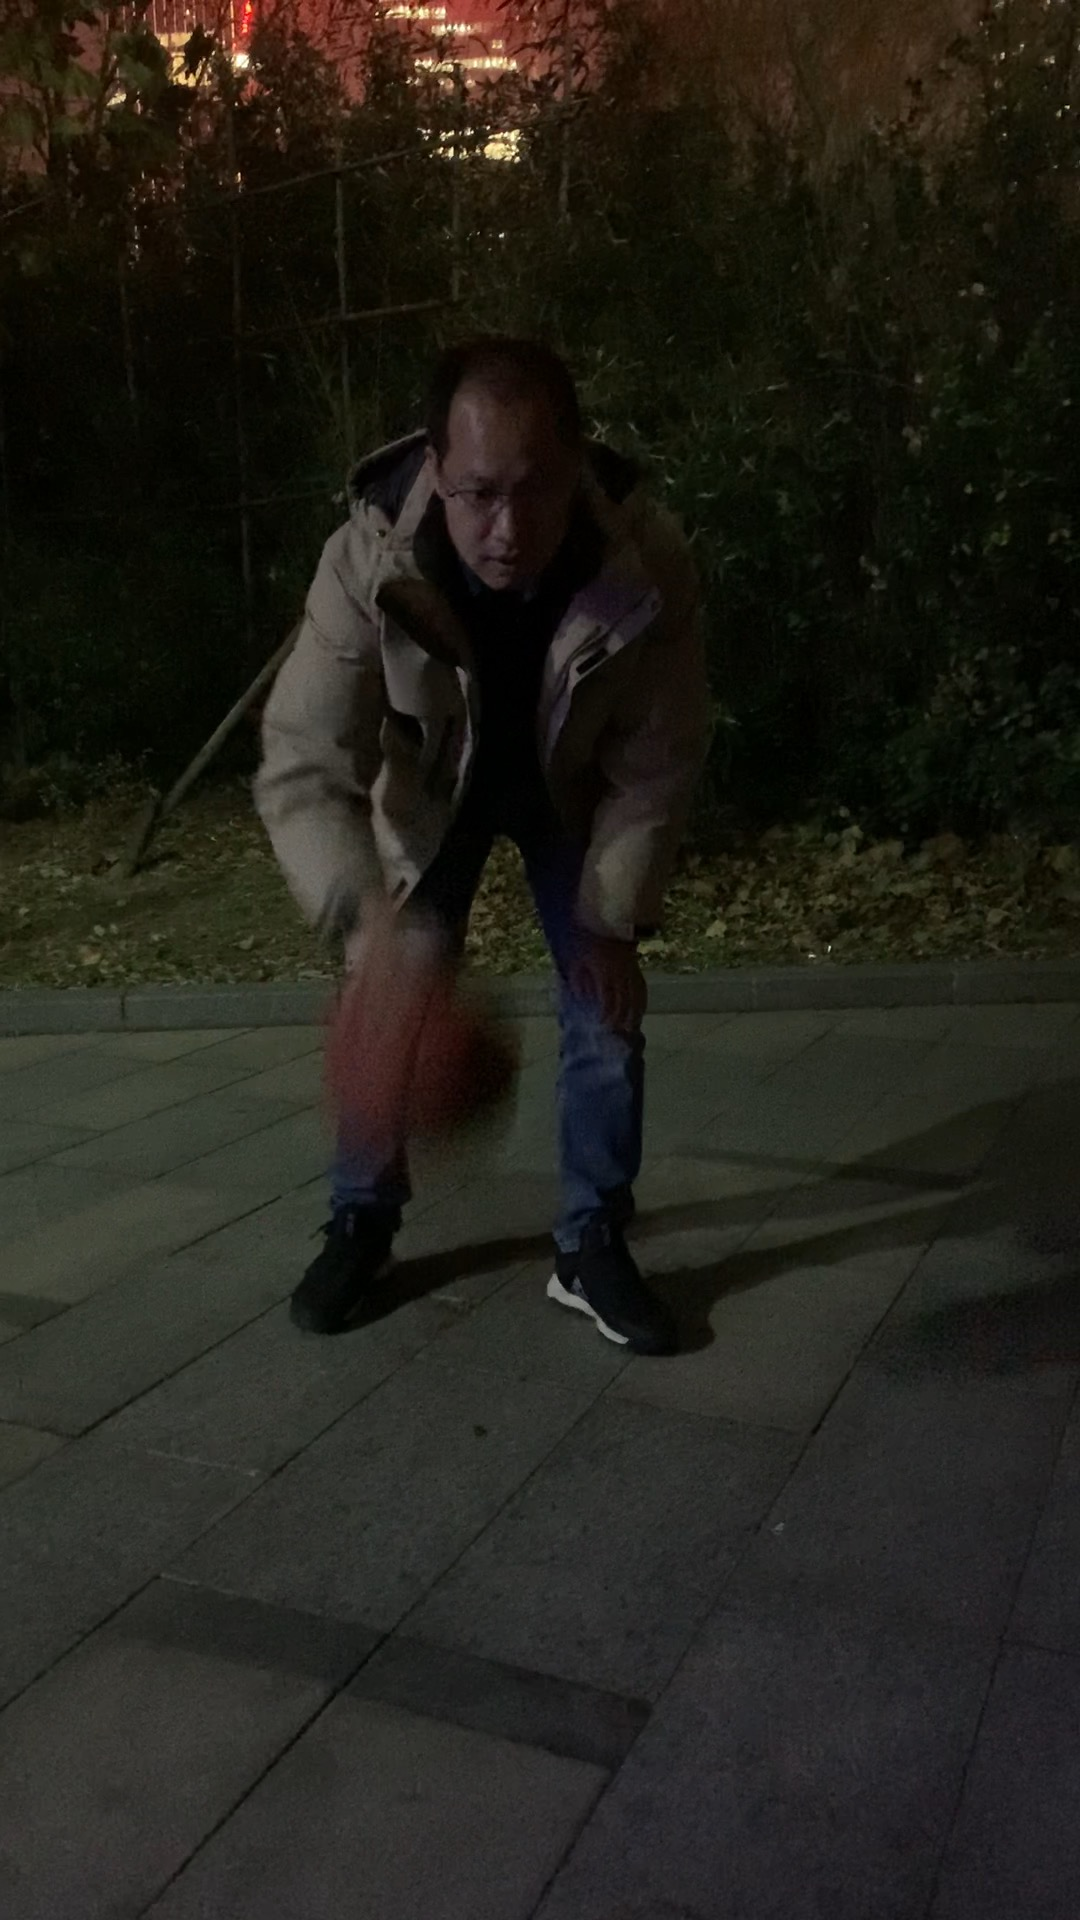ball: (330, 965, 527, 1149)
